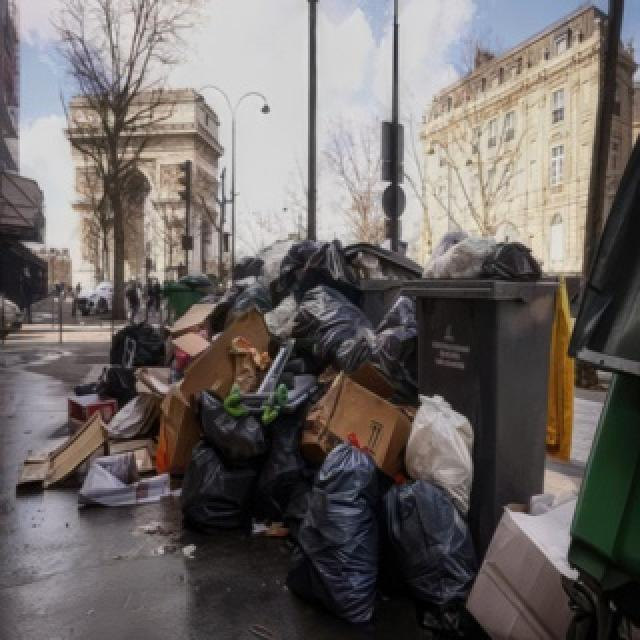Trashbag: (174, 403, 296, 548), (292, 448, 391, 613), (387, 488, 468, 622), (292, 283, 371, 373), (360, 300, 425, 396), (279, 236, 356, 293), (113, 312, 167, 366), (486, 240, 539, 282)
